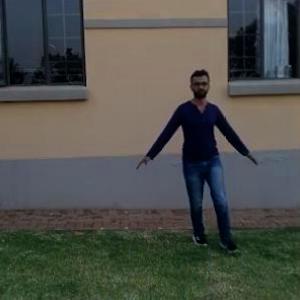land: (141, 72, 264, 235)
